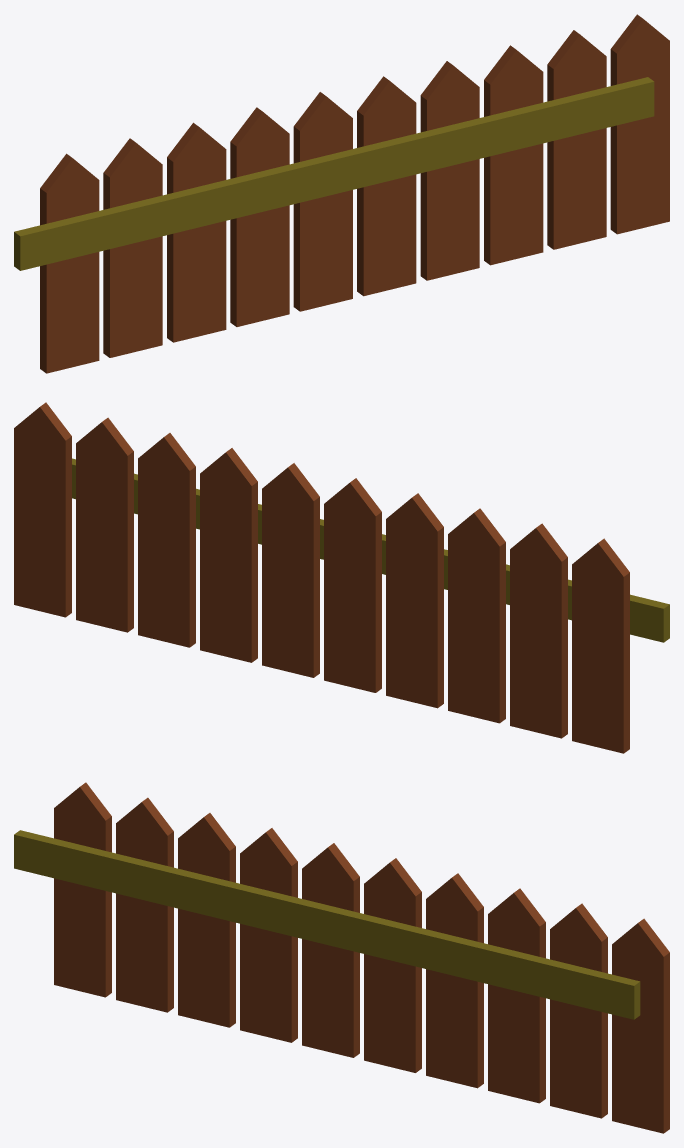
File: fence_model.fbx
3 views of the same model, one above another, from view 1: azimuth 30°, elevation 25°; view 2: azimuth 150°, elevation 25°; view 3: azimuth 330°, elevation 25° (orthographic). The views are drawn at different scales.
Visible parts, largest first — view 1: Cube, Cube.001; view 2: Cube, Cube.001; view 3: Cube, Cube.001.
Part boxes in pixels (x1,y1,x2,y2): Cube: (40,14,669,373); Cube.001: (14,77,654,270); Cube: (14,402,629,753); Cube.001: (72,458,669,642); Cube: (54,782,669,1133); Cube.001: (14,830,640,1019).
Bounding box in the file's own units: 13.01 × 359 × 109.
